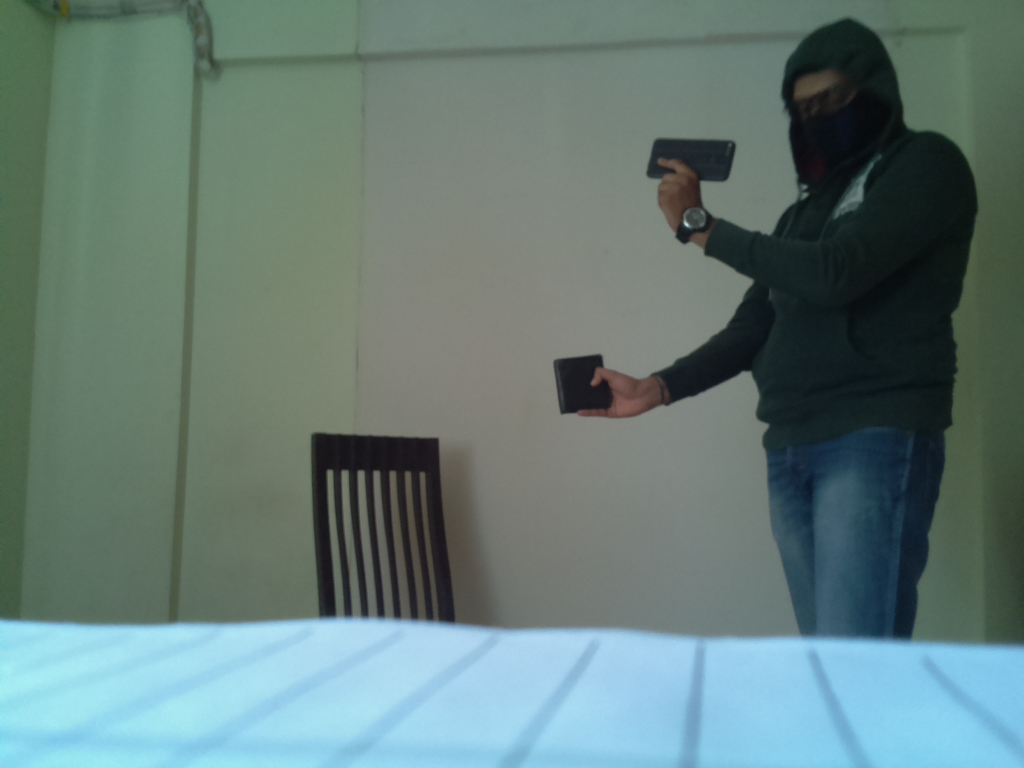none2: (646, 137, 740, 187), (547, 353, 617, 415), (678, 197, 716, 237)
